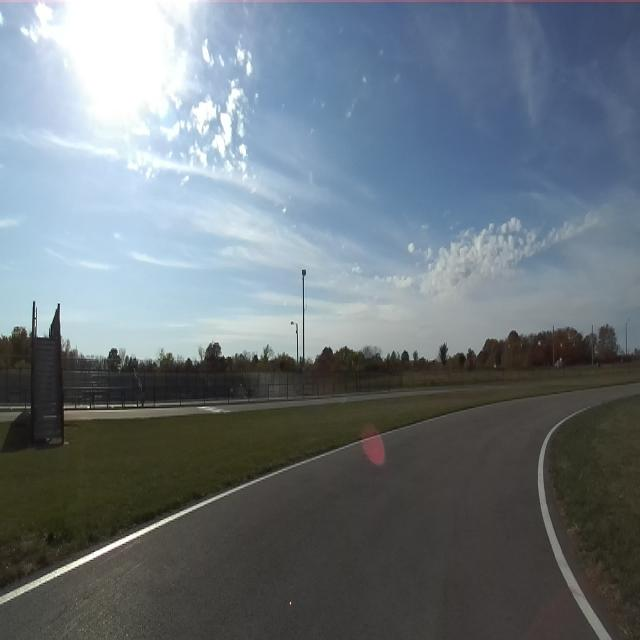white-line: (0, 411, 463, 607), (538, 408, 612, 639)
